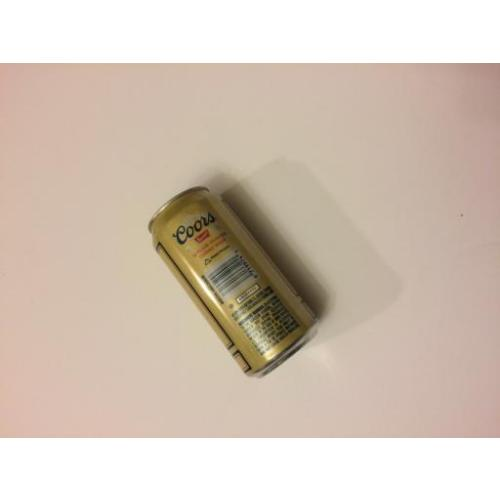metal: (149, 186, 321, 379)
